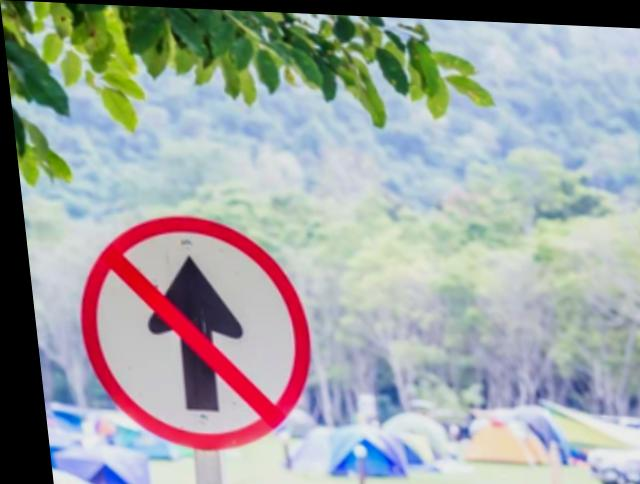not_go_straight: (60, 209, 313, 446)
